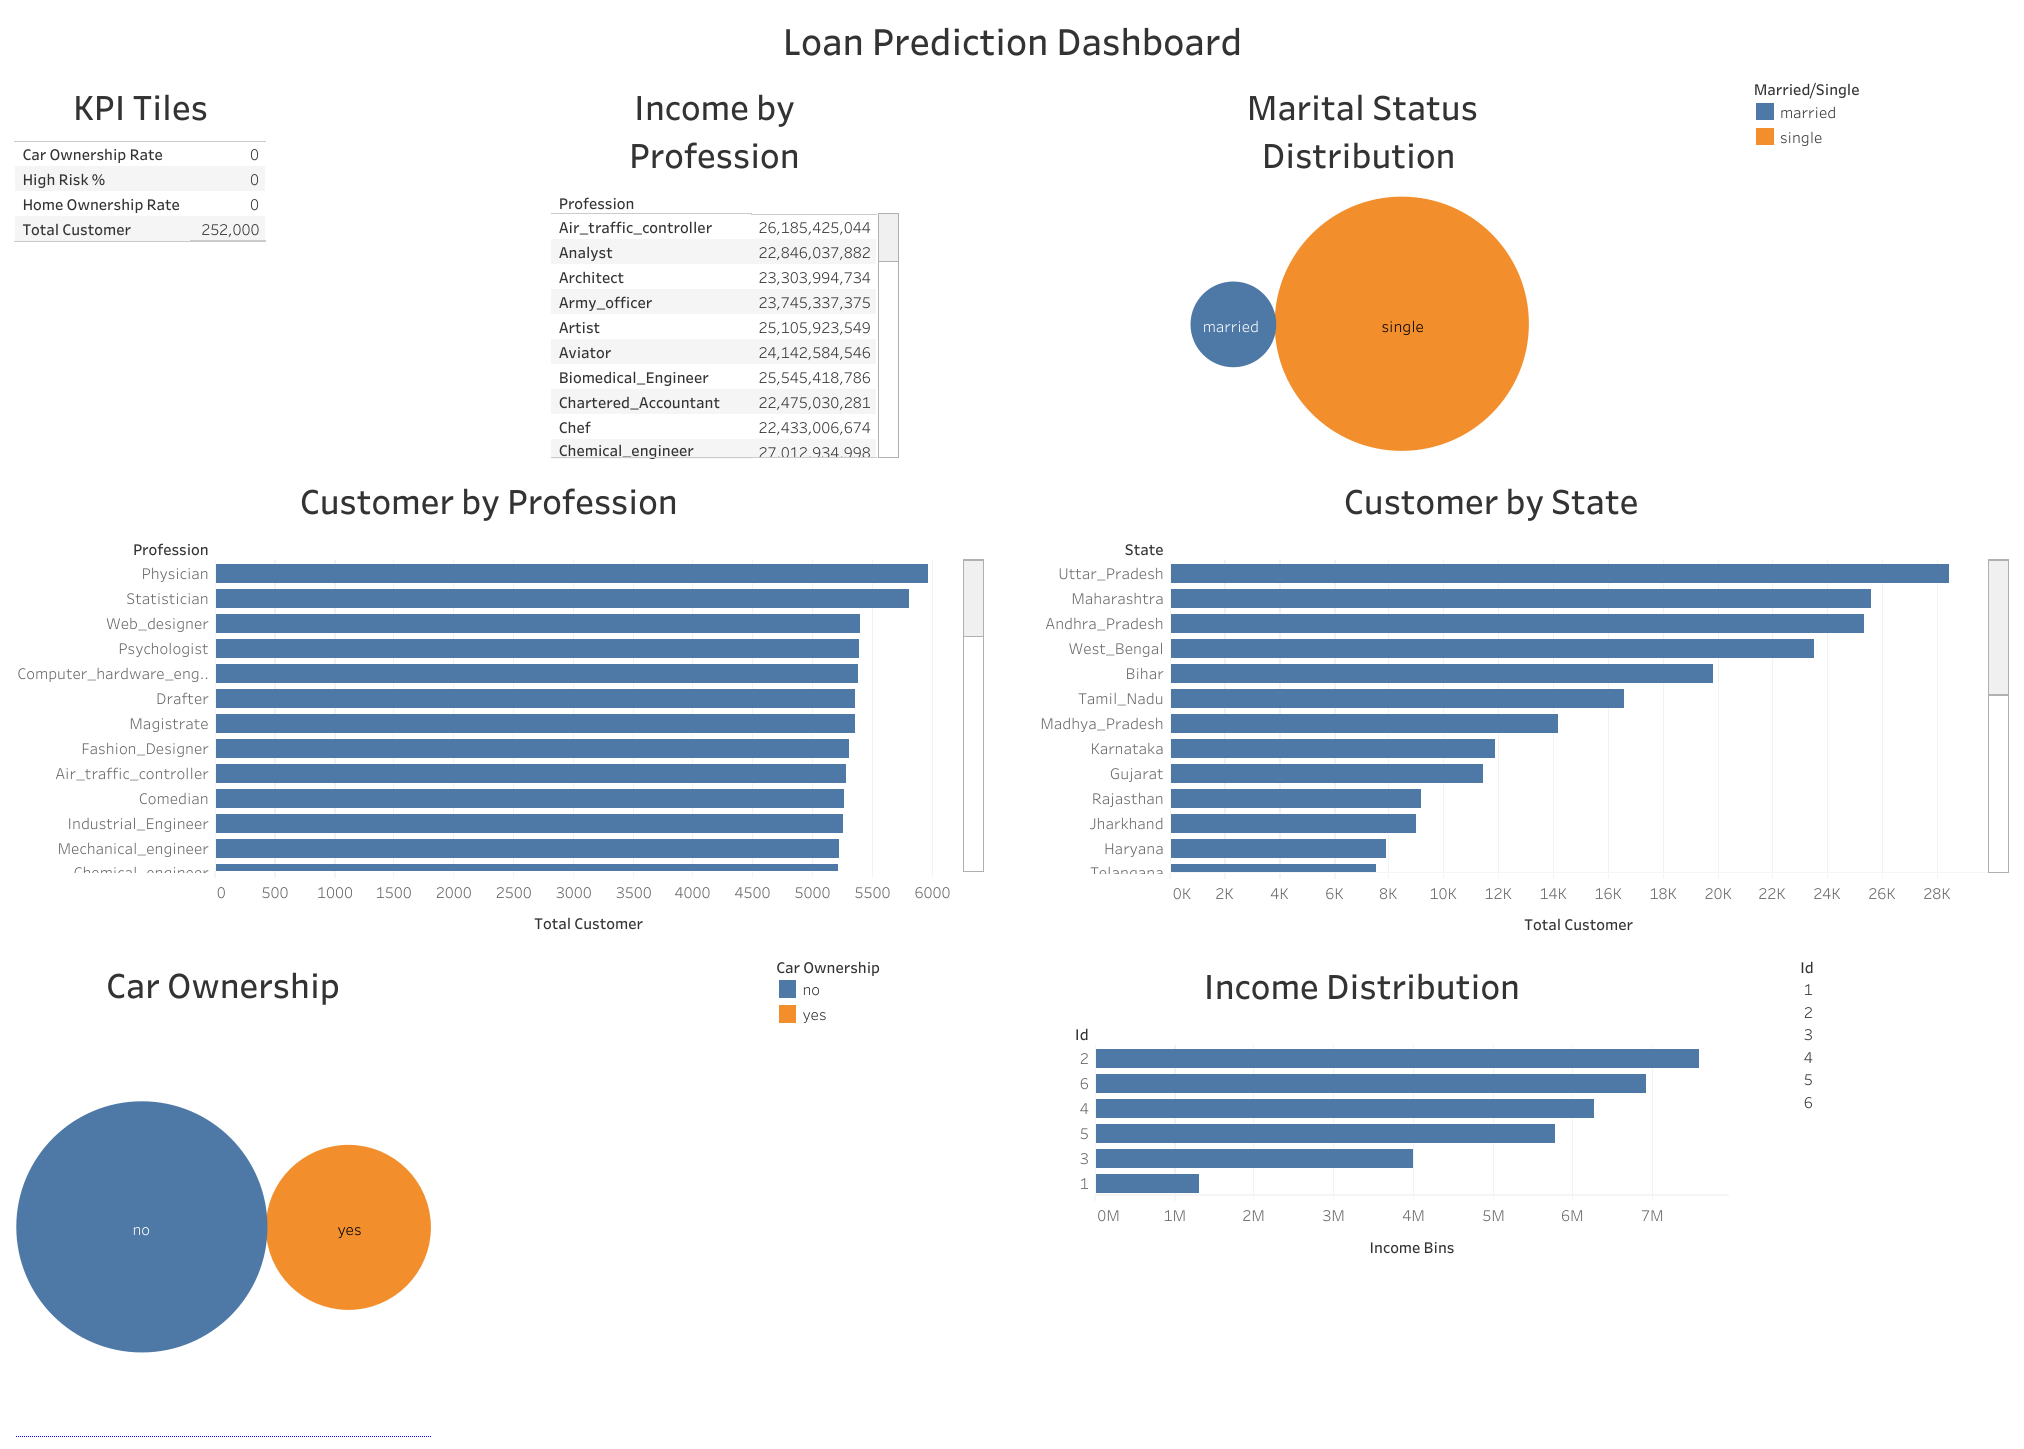

Layout of this report page (visuals, bound fields, positions):
{"tool":"tableau","page":{"name":"Dashboard 1","canvas":[1000,1000],"units":"permille","ordinal":0},"visuals":[{"type":"title","box":[4.9,6.9,990.2,50.9]},{"type":"worksheet","title":"Sheet 2","mark":"Automatic","box":[4.9,57.8,265,269]},{"type":"worksheet","title":"Sheet 7","mark":"Automatic","rows":["Profession"],"box":[269.9,57.8,314.5,269]},{"type":"worksheet","title":"Sheet 5","mark":"Circle","box":[584.4,57.8,278.8,269]},{"type":"legend","title":"Sheet 5","param":"[federated.1dwkw8t0dac4kb182frr40h8qu8t].[none:Married/Single:nk]","box":[863.2,57.8,131.9,269]},{"type":"worksheet","title":"Sheet 3","mark":"Automatic","rows":["Profession"],"cols":["Calculation_1032450247304343552"],"box":[4.9,326.8,484,330.3]},{"type":"worksheet","title":"Sheet 4","mark":"Automatic","rows":["STATE"],"cols":["Calculation_1032450247304343552"],"box":[488.9,326.8,506.2,330.6]},{"type":"worksheet","title":"Sheet 6","mark":"Circle","box":[4.9,657.1,375.3,336.1]},{"type":"legend","title":"Sheet 6","param":"[federated.1dwkw8t0dac4kb182frr40h8qu8t].[none:Car_Ownership:nk]","box":[380.2,657.1,108.7,336.1]},{"type":"worksheet","title":"Sheet 1","mark":"Automatic","rows":["Id"],"cols":["Calculation_564920310820814848"],"box":[488.9,657.4,397.4,335.7]},{"type":"filter","title":"Sheet 1","param":"[federated.1dwkw8t0dac4kb182frr40h8qu8t].[none:Id:ok]","box":[886.3,657.4,108.8,335.7]}]}

Visuals, with their boxes on the dashboard's canvas, which has no fixed pixel size, in thousandths of its width and height (x1, y1, x2, y2). These are canvas units, not pixel positions in the 2024x1449 screenshot, which may show the page scaled, cropped or inside an application window:
title: detection(5, 7, 995, 58)
"Sheet 2" worksheet: detection(5, 58, 270, 327)
"Sheet 7" worksheet: detection(270, 58, 584, 327)
"Sheet 5" worksheet (Circle marks): detection(584, 58, 863, 327)
"Sheet 5" legend: detection(863, 58, 995, 327)
"Sheet 3" worksheet: detection(5, 327, 489, 657)
"Sheet 4" worksheet: detection(489, 327, 995, 657)
"Sheet 6" worksheet (Circle marks): detection(5, 657, 380, 993)
"Sheet 6" legend: detection(380, 657, 489, 993)
"Sheet 1" worksheet: detection(489, 657, 886, 993)
"Sheet 1" filter: detection(886, 657, 995, 993)
